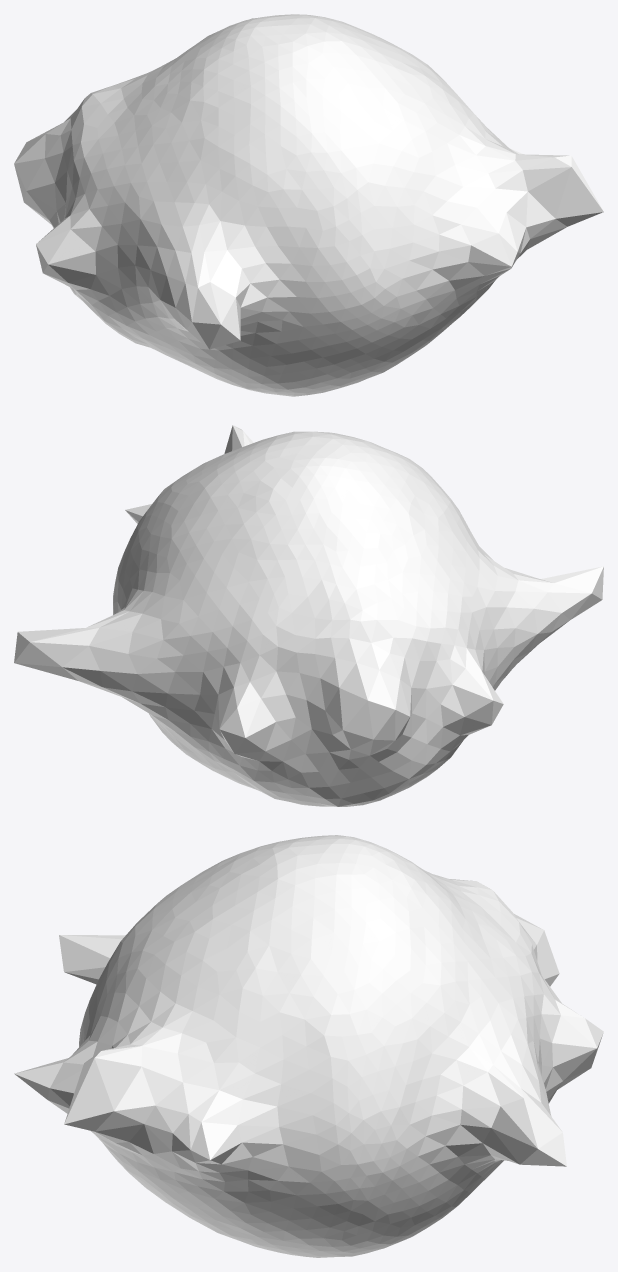
The model's file is plane_rotZ45[0.3,0.0,0.3]s1[-1.7,0.0,-1.7]_00040.obj.
The picture shows the model from 3 angles, top to bottom: view 1: azimuth 30°, elevation 25°; view 2: azimuth 150°, elevation 25°; view 3: azimuth 270°, elevation 25°; orthographic projection. The views are drawn at different scales.
Bounding box in the file's own units: 1.08 × 0.786 × 1.08.
1 material, 1 textured.
